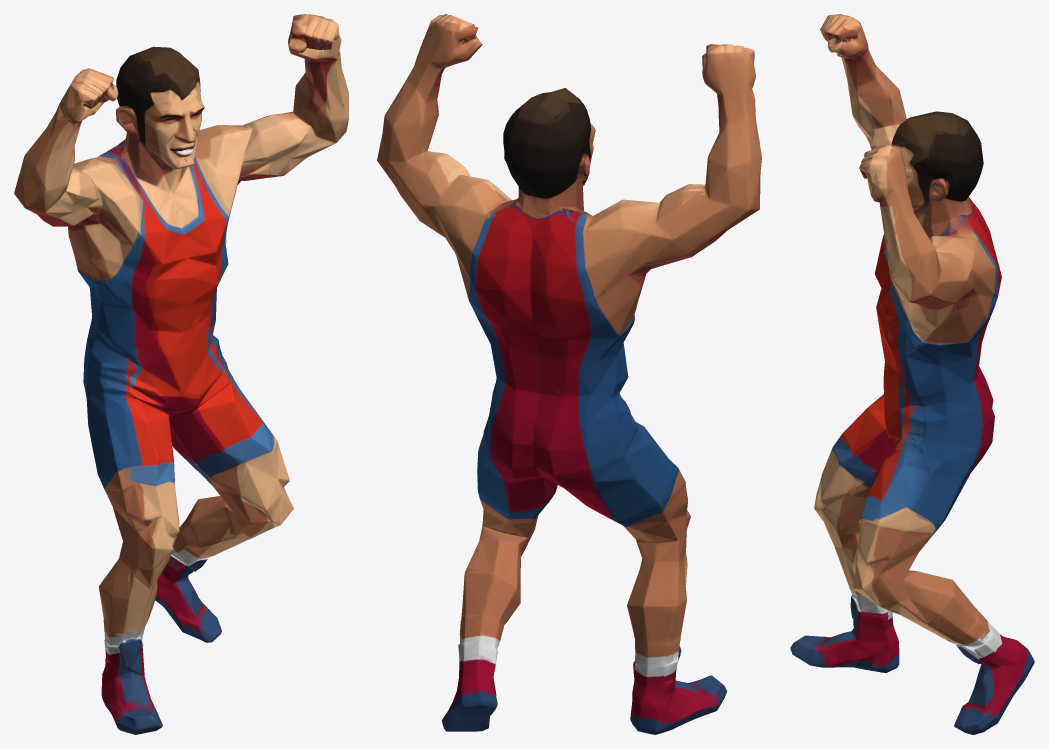
Rendered from luchadorvictoria.glb.
The picture shows the model from 3 angles, left to right: view 1: azimuth 30°, elevation 25°; view 2: azimuth 150°, elevation 25°; view 3: azimuth 270°, elevation 25°; orthographic projection. The views are drawn at different scales.
Visible parts, largest first — view 1: node_0; view 2: node_0; view 3: node_0.
Part boxes in pixels (box(x1,y1,x2,y2)): node_0: box(14, 14, 348, 734); node_0: box(377, 14, 761, 734); node_0: box(790, 14, 1034, 734).
Size of the model in its own units: 0.5914 by 1.09 by 0.3835.
Materials: 1 (1 with a texture image).
